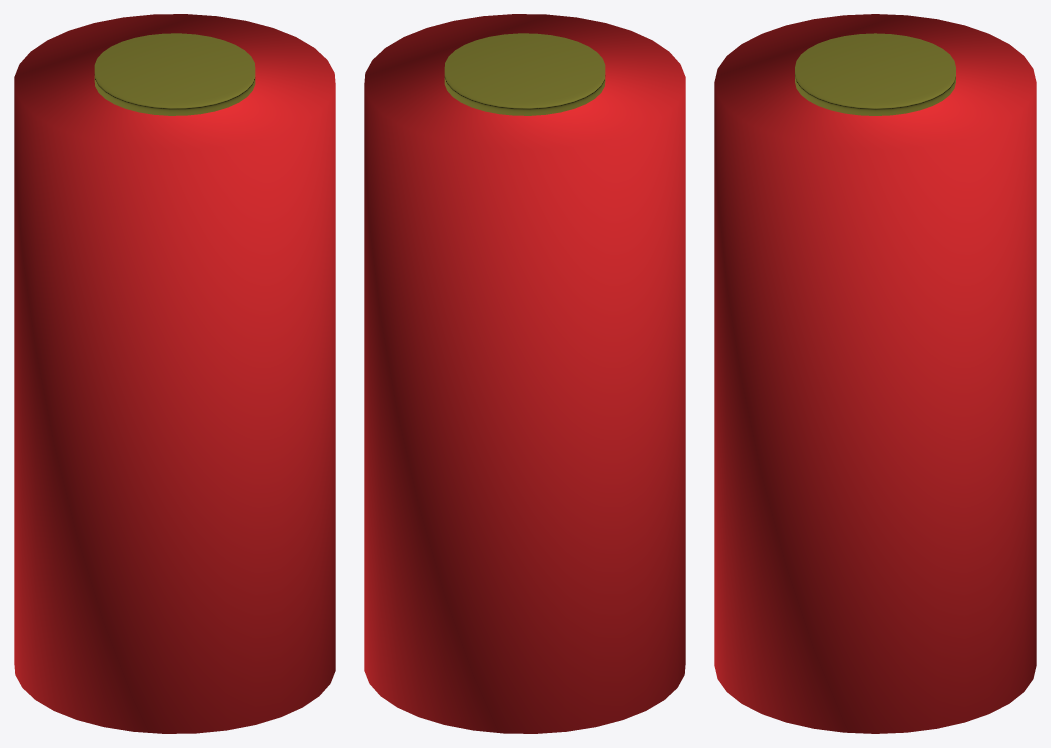
File: Batery.fbx
The picture shows the model from 3 angles, left to right: view 1: azimuth 30°, elevation 25°; view 2: azimuth 150°, elevation 25°; view 3: azimuth 270°, elevation 25°; orthographic projection.
Visible parts, largest first — view 1: Cylinder, Cylinder.001; view 2: Cylinder, Cylinder.001; view 3: Cylinder, Cylinder.001.
Boxes of the visible parts, x1=… form: Cylinder: x1=14, y1=14, x2=335, y2=733; Cylinder.001: x1=94, y1=33, x2=255, y2=115; Cylinder: x1=364, y1=14, x2=685, y2=733; Cylinder.001: x1=444, y1=33, x2=605, y2=115; Cylinder: x1=714, y1=14, x2=1036, y2=733; Cylinder.001: x1=795, y1=33, x2=955, y2=115.
Bounding box in the file's own units: 200 × 410 × 200.
